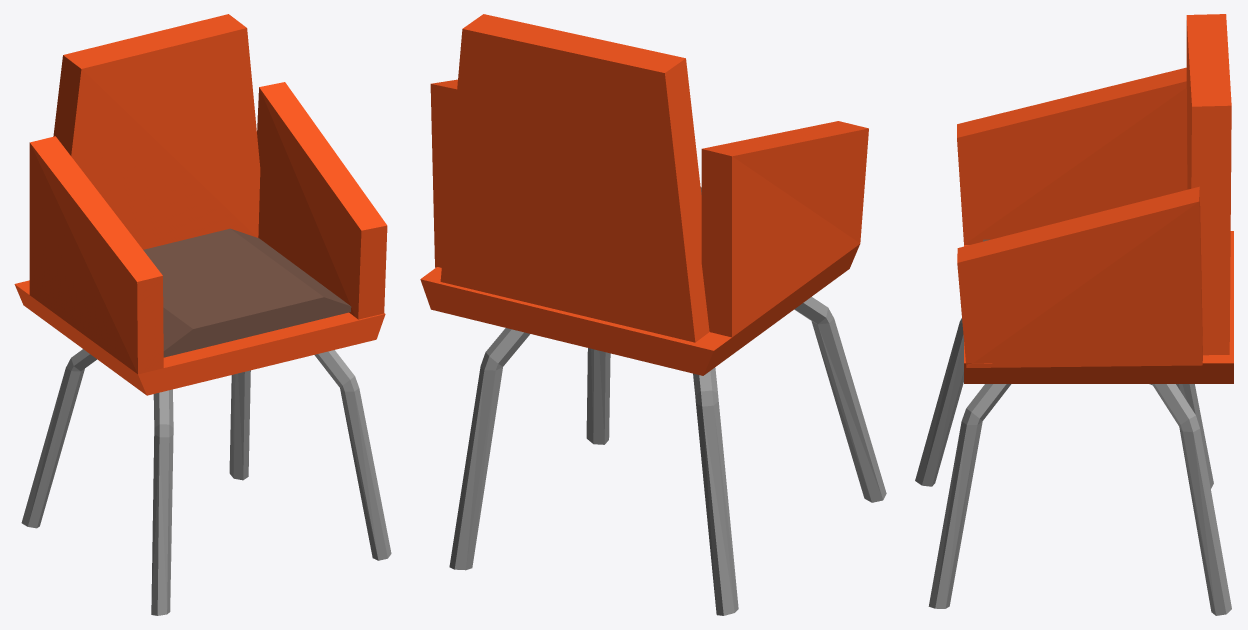
The model's file is armchair-by-workshop-apelab-8ZuAjF0awms.glb.
3 views of the same model, side by side, from view 1: azimuth 30°, elevation 25°; view 2: azimuth 150°, elevation 25°; view 3: azimuth 270°, elevation 25° (orthographic). The views are drawn at different scales.
Visible parts, largest first — view 1: group697440878, group1790773998, group1664022176, group1758044779, group1177196876, group493216999, group524210661, group905488638, group1591786629; view 2: group697440878, group1790773998, group1177196876, group1591786629, group905488638, group493216999, group1664022176, group524210661; view 3: group1664022176, group1790773998, group697440878, group1177196876, group1591786629, group524210661, group493216999, group905488638.
Boxes of the visible parts, x1,y1,x2,y2 form: group697440878: (53,14,260,249); group1790773998: (29,136,163,374); group1664022176: (257,82,387,319); group1758044779: (143,228,351,357); group1177196876: (14,280,385,395); group493216999: (151,389,173,615); group524210661: (314,350,391,560); group905488638: (21,349,96,528); group1591786629: (229,370,250,480); group697440878: (440,14,709,342); group1790773998: (701,121,868,337); group1177196876: (420,244,859,375); group1591786629: (449,328,529,570); group905488638: (693,367,738,615); group493216999: (794,297,886,502); group1664022176: (430,79,457,267); group524210661: (586,348,610,444); group1664022176: (957,186,1202,367); group1790773998: (957,67,1187,244); group697440878: (1186,14,1231,355); group1177196876: (964,231,1233,383); group1591786629: (1149,384,1231,615); group524210661: (928,384,1011,608); group493216999: (915,318,963,486); group905488638: (1176,384,1213,488).
Size of the model in its own units: 0.6197 by 1.05 by 0.6023.
